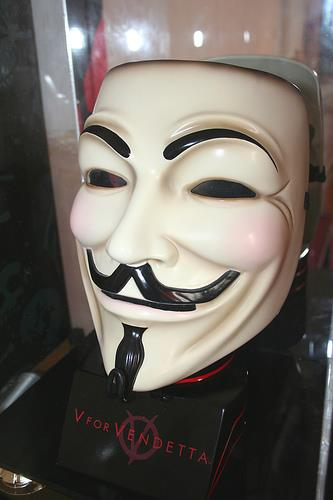V4Vendetta_mask: (64, 55, 309, 391)
